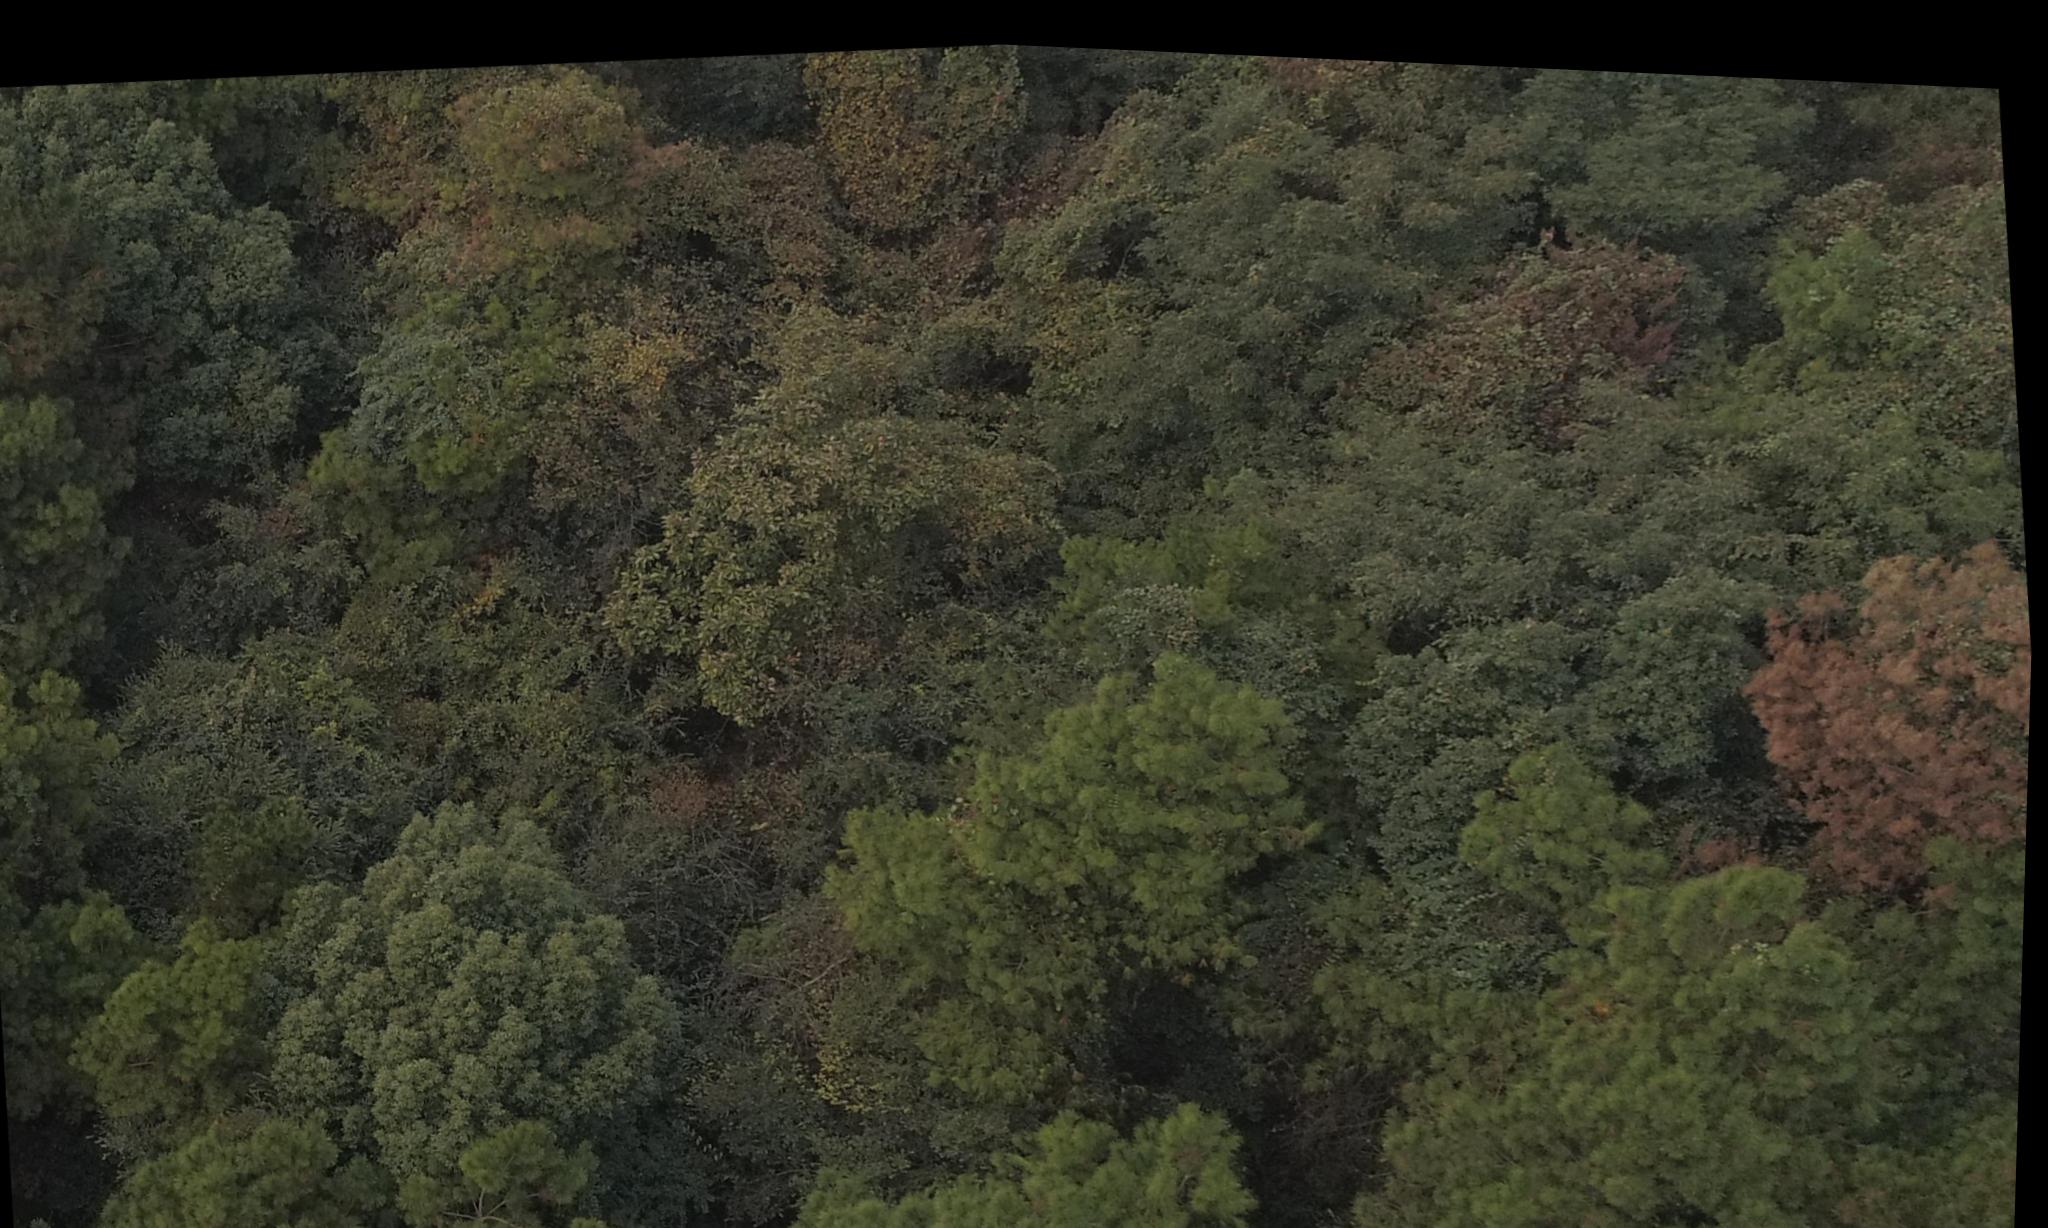heavy: (1747, 550, 2036, 874)
